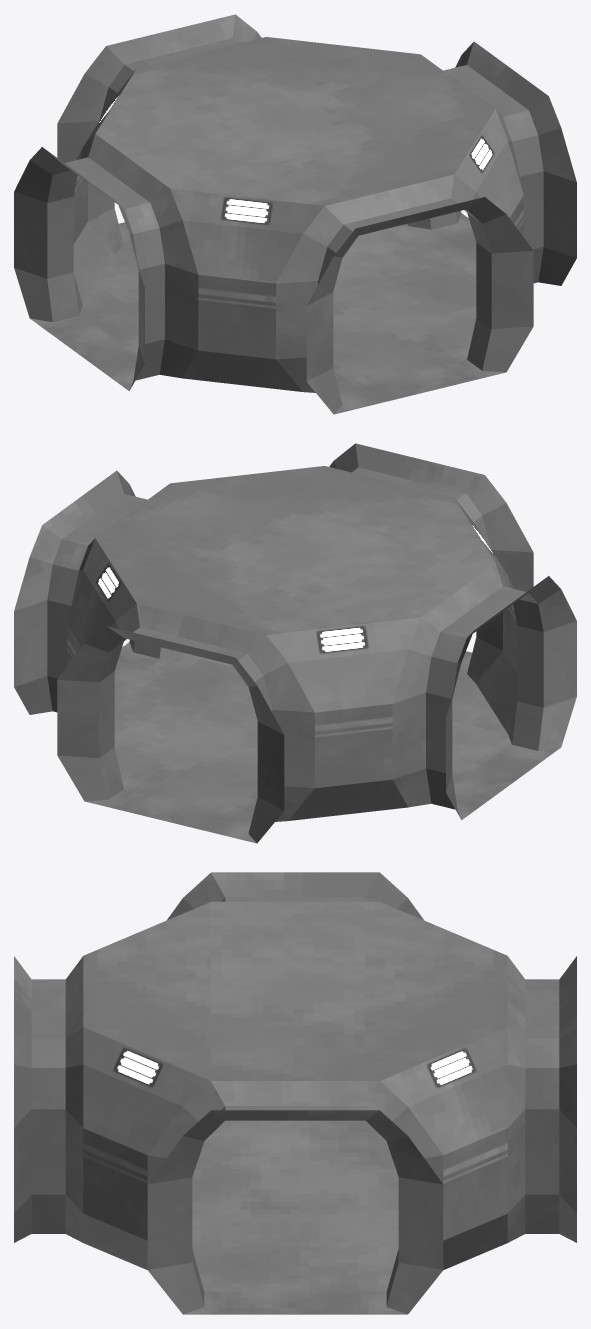
File: hallway_oct_4x_tex.fbx
3 views of the same model, one above another, from view 1: azimuth 30°, elevation 25°; view 2: azimuth 150°, elevation 25°; view 3: azimuth 270°, elevation 25° (orthographic). The views are drawn at different scales.
Visible parts, largest first — view 1: hallway_oct.014; view 2: hallway_oct.014; view 3: hallway_oct.014.
Boxes of the visible parts, left/top/right/bottom form: hallway_oct.014: left=14, top=14, right=576, bottom=414; hallway_oct.014: left=14, top=443, right=576, bottom=843; hallway_oct.014: left=14, top=872, right=576, bottom=1314.
Size of the model in its own units: 1000 by 400 by 1000.
Materials: 1 (1 with a texture image).
